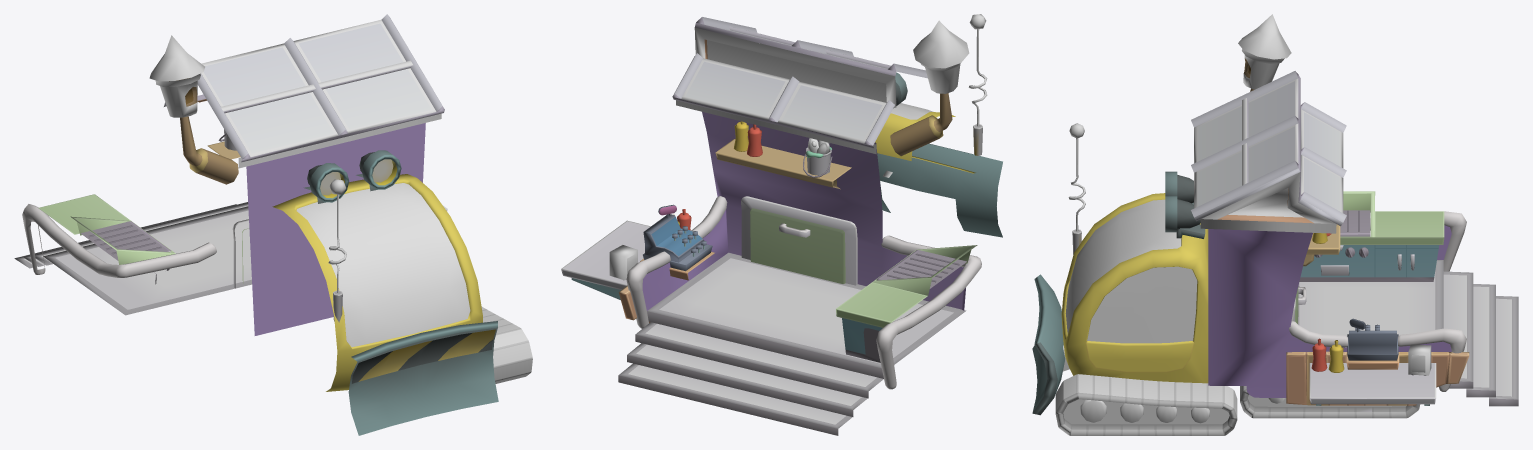
The model's file is fishDogTruck.glb.
3 views of the same model, side by side, from view 1: azimuth 30°, elevation 25°; view 2: azimuth 150°, elevation 25°; view 3: azimuth 270°, elevation 25° (orthographic). The views are drawn at different scales.
Visible parts, largest first — view 1: fishDogTruck; view 2: fishDogTruck; view 3: fishDogTruck.
Boxes of the visible parts, x1,y1,x2,y2 form: fishDogTruck: (14, 14, 532, 435); fishDogTruck: (561, 14, 1002, 435); fishDogTruck: (1032, 14, 1518, 435).
Size of the model in its own units: 3.68 by 3.32 by 4.73.
